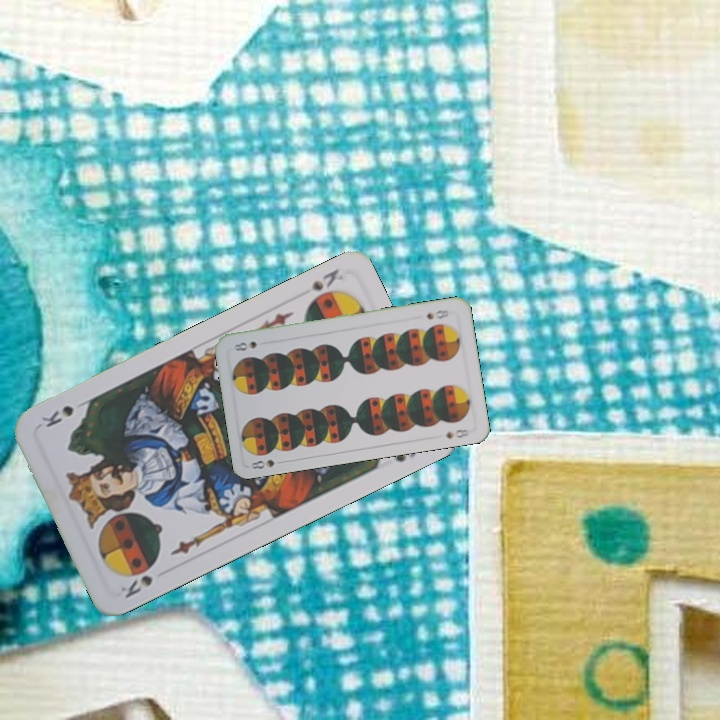S8: (247, 455, 288, 472), (422, 306, 453, 322)
SK: (302, 264, 346, 308), (116, 571, 156, 601)
